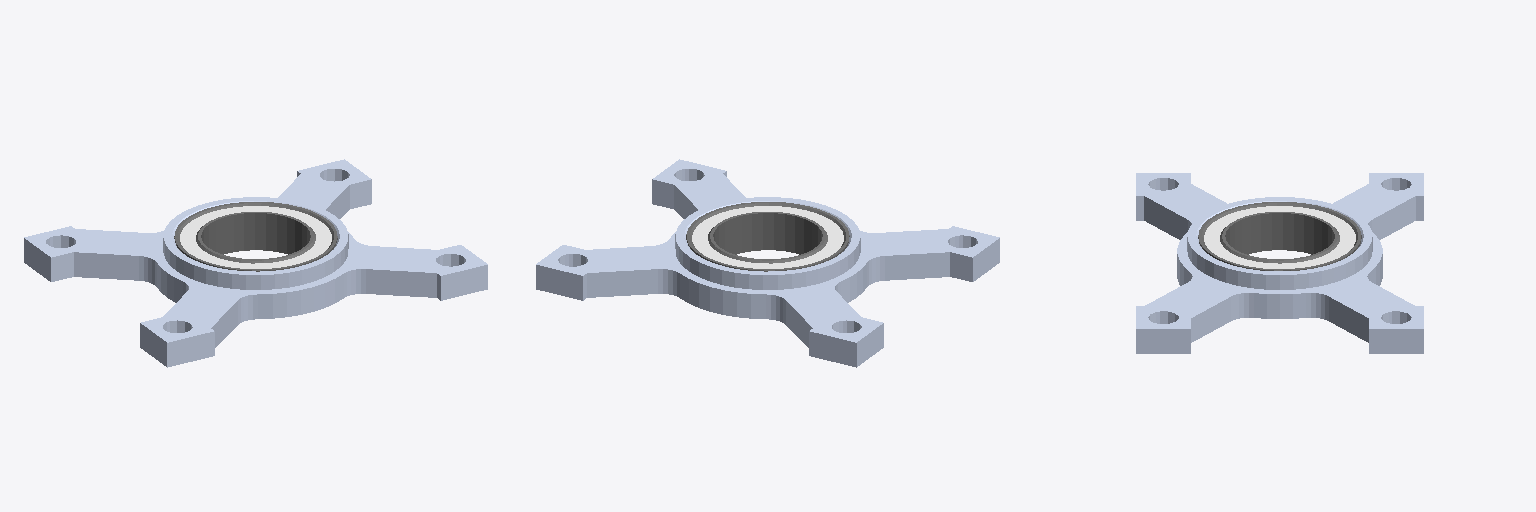
Rendered from ROB-12379.obj.
The picture shows the model from 3 angles: view 1: azimuth 30°, elevation 25°; view 2: azimuth 150°, elevation 25°; view 3: azimuth 270°, elevation 25°; orthographic projection.
Parts seen in each view (by area): view 1: mesh 1 RO, mesh 2 Boss-Extrude3, mesh 3 Chamfer2; view 2: mesh 1 RO, mesh 2 Boss-Extrude3, mesh 3 Chamfer2; view 3: mesh 1 RO, mesh 2 Boss-Extrude3, mesh 3 Chamfer2.
Boxes of the visible parts, x1,y1,x2,y2 form: mesh 1 RO: [24, 159, 487, 367]; mesh 2 Boss-Extrude3: [174, 202, 337, 271]; mesh 3 Chamfer2: [180, 206, 331, 268]; mesh 1 RO: [536, 159, 999, 367]; mesh 2 Boss-Extrude3: [686, 202, 849, 271]; mesh 3 Chamfer2: [692, 206, 843, 268]; mesh 1 RO: [1136, 173, 1423, 353]; mesh 2 Boss-Extrude3: [1198, 202, 1361, 270]; mesh 3 Chamfer2: [1204, 206, 1355, 268].
Bounding box in the file's own units: 0.0429 × 0.0051 × 0.0333.